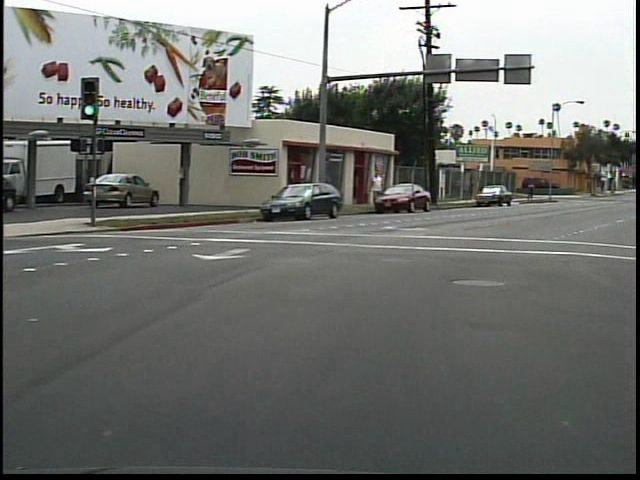person: (368, 167, 390, 211), (527, 178, 540, 204)
